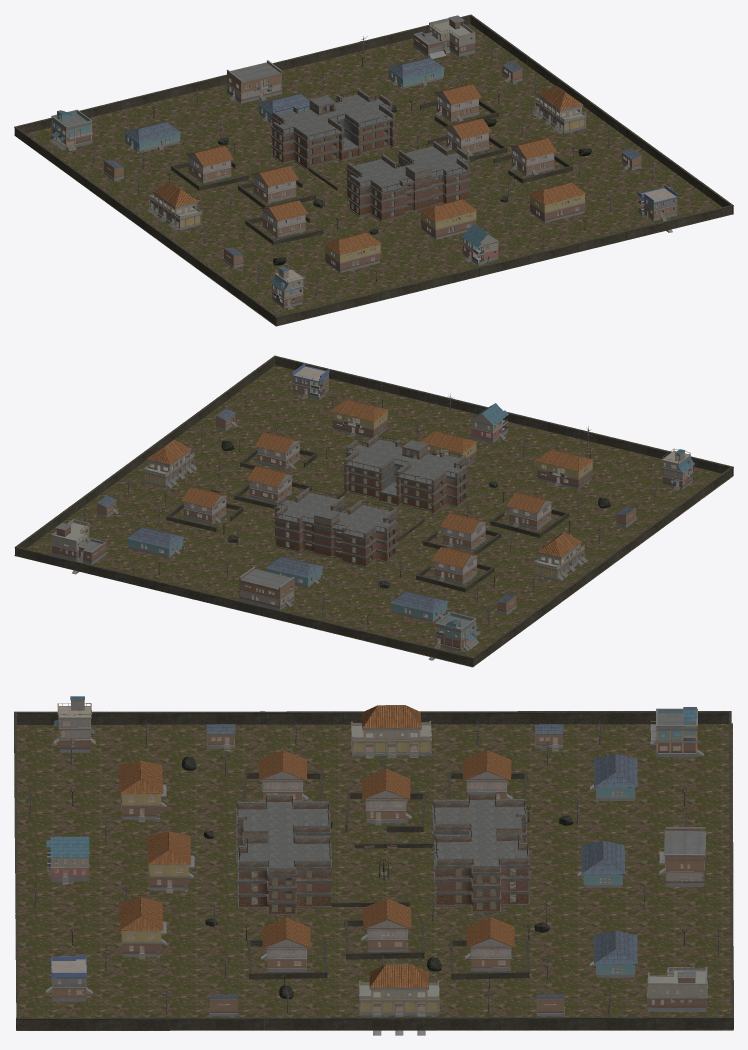
File: town.glb
3 renders of one model, top to bottom at view 1: azimuth 30°, elevation 25°; view 2: azimuth 150°, elevation 25°; view 3: azimuth 270°, elevation 25°, orthographic. The views are drawn at different scales.
Visible parts, largest first — view 1: Plane_2, HouseSmall_1 (×2), Wall_8, HouseCenter_0, Tree_7, rock_3; view 2: Plane_2, HouseSmall_1 (×2), Wall_8, HouseCenter_0, Tree_7; view 3: Plane_2, HouseSmall_1 (×2), Wall_8, HouseCenter_0, Tree_7, rock_3.
Boxes of the visible parts, left/top/right/bottom form: Plane_2: left=26, top=24, right=729, bottom=325; HouseSmall_1 (×2): left=50, top=15, right=677, bottom=309; Wall_8: left=14, top=14, right=733, bottom=326; HouseCenter_0: left=271, top=89, right=470, bottom=222; Tree_7: left=89, top=36, right=655, bottom=296; rock_3: left=218, top=105, right=591, bottom=265; Plane_2: left=14, top=365, right=732, bottom=667; HouseSmall_1 (×2): left=51, top=363, right=694, bottom=660; Wall_8: left=14, top=355, right=733, bottom=666; HouseCenter_0: left=274, top=434, right=467, bottom=567; Tree_7: left=80, top=392, right=658, bottom=624; Plane_2: left=17, top=723, right=733, bottom=1030; HouseSmall_1 (×2): left=45, top=696, right=707, bottom=1035; Wall_8: left=14, top=711, right=733, bottom=1030; HouseCenter_0: left=236, top=792, right=529, bottom=915; Tree_7: left=24, top=717, right=724, bottom=1013; rock_3: left=182, top=757, right=573, bottom=999.
Size of the model in its own units: 162 by 15.89 by 160.
9 materials, 9 textured.
